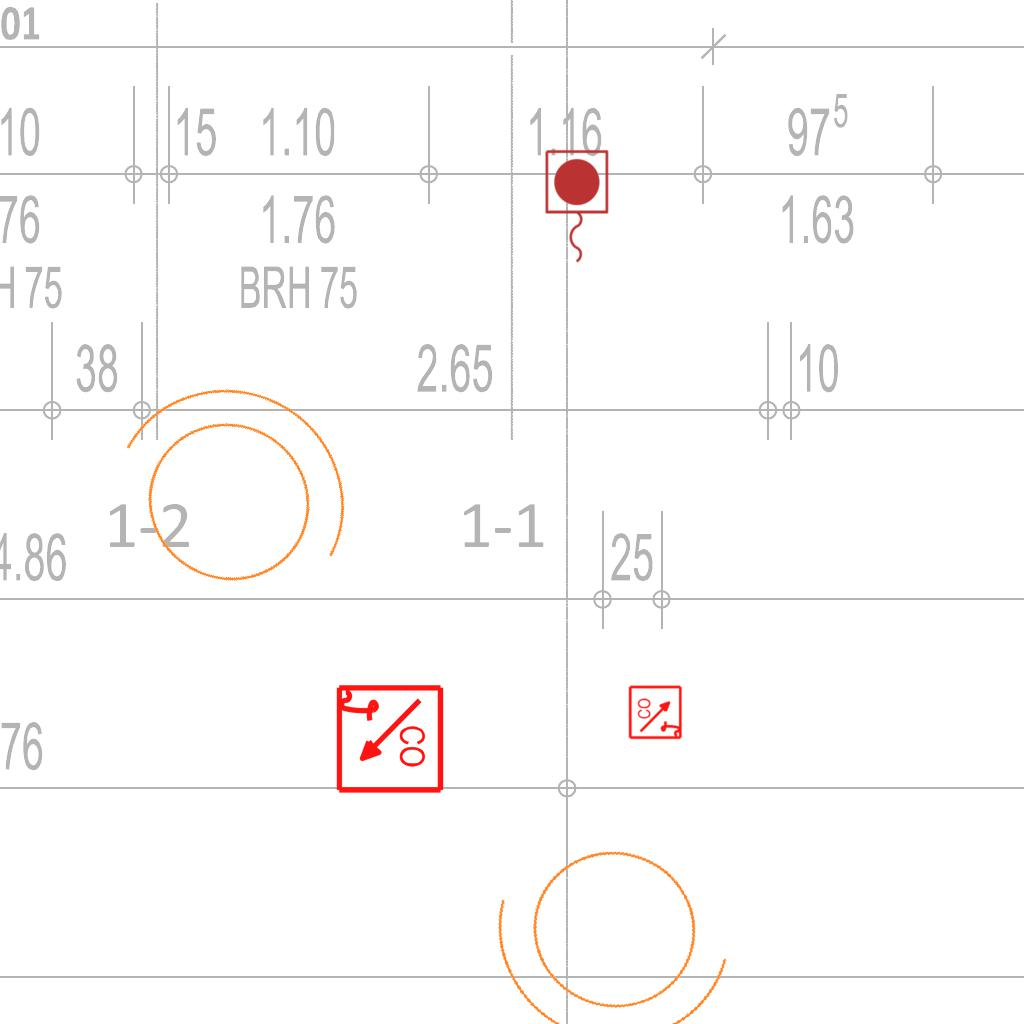ROA_Rauchmelder_optisch_mit_Signalgeber_(Sockelsirene): (332, 683, 445, 796), (628, 684, 684, 740)
Scheinwerfer_fuer_Alarmbeleuchtung: (58, 329, 398, 652), (461, 797, 775, 1024)
Zugtaster: (540, 146, 612, 268)
